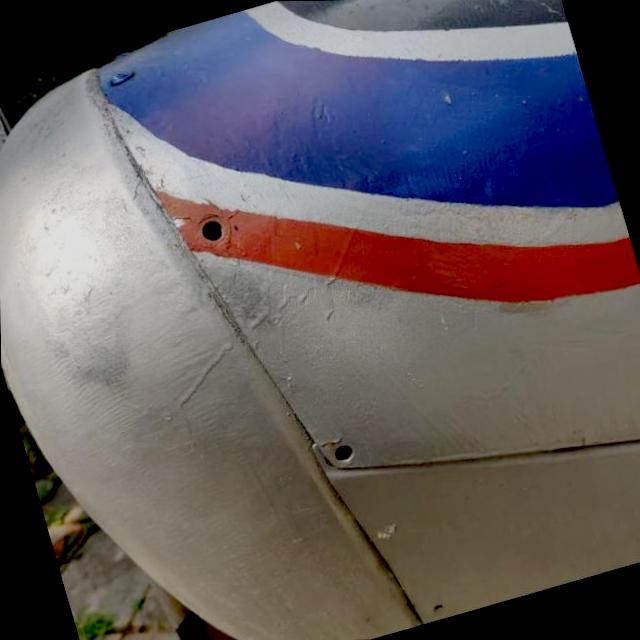Missing Fastener: (321, 438, 354, 466), (198, 214, 222, 240), (428, 602, 450, 616)
